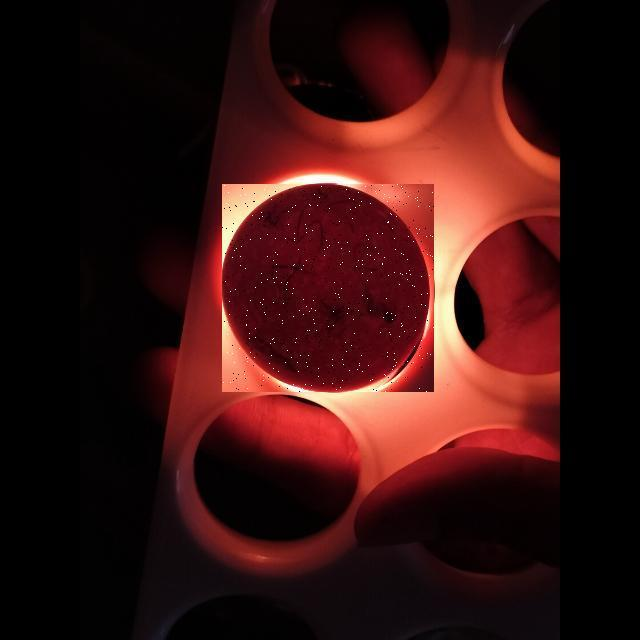A - Good: (223, 183, 429, 399)
